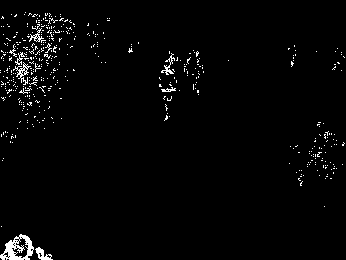person: (160, 60, 178, 120)
